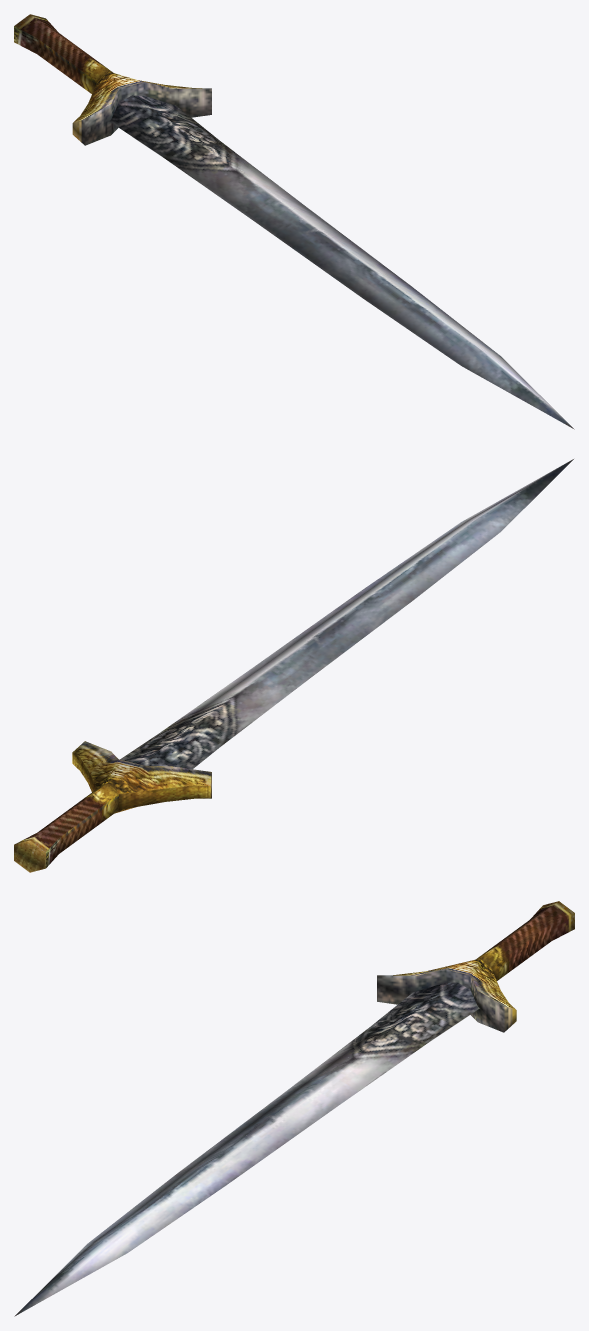
The model's file is sword_03.glb.
The picture shows the model from 3 angles, top to bottom: view 1: azimuth 30°, elevation 25°; view 2: azimuth 150°, elevation 25°; view 3: azimuth 330°, elevation 25°; orthographic projection.
Visible parts, largest first — view 1: sword_03; view 2: sword_03; view 3: sword_03.
Part boxes in pixels (x1,y1,x2,y2): sword_03: [14, 14, 574, 429]; sword_03: [14, 459, 573, 872]; sword_03: [14, 901, 574, 1316].
Size of the model in its own units: 0.1506 by 0.0406 by 1.03.
Materials: 1 (1 with a texture image).
